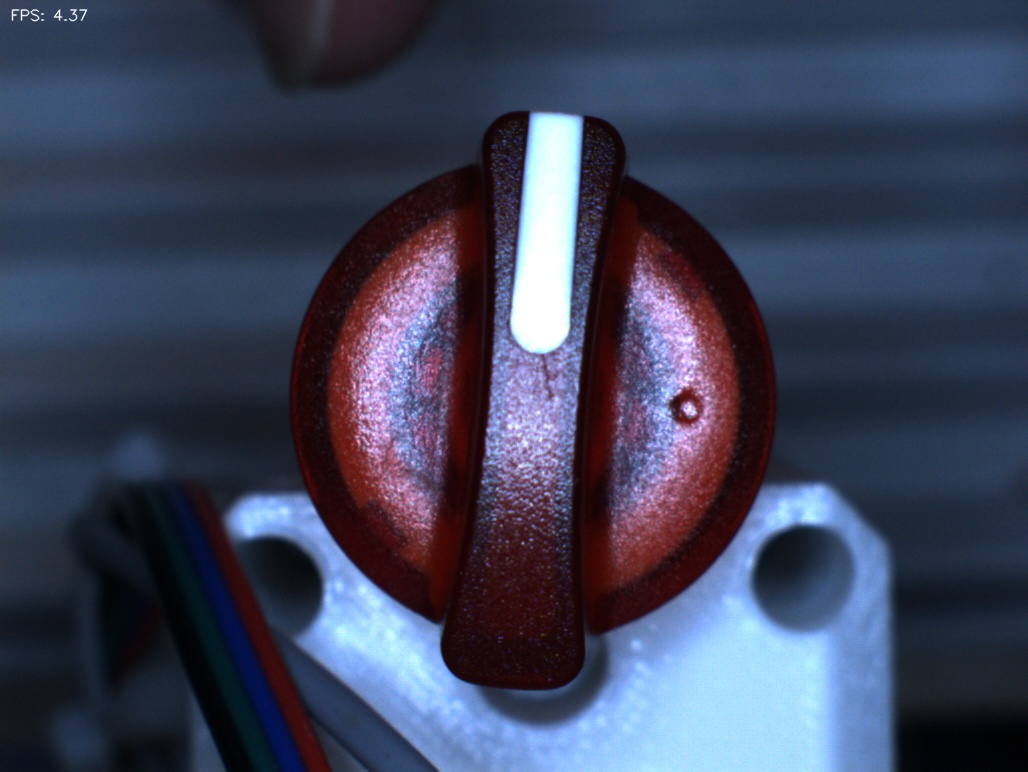Choc: (655, 361, 735, 441)
